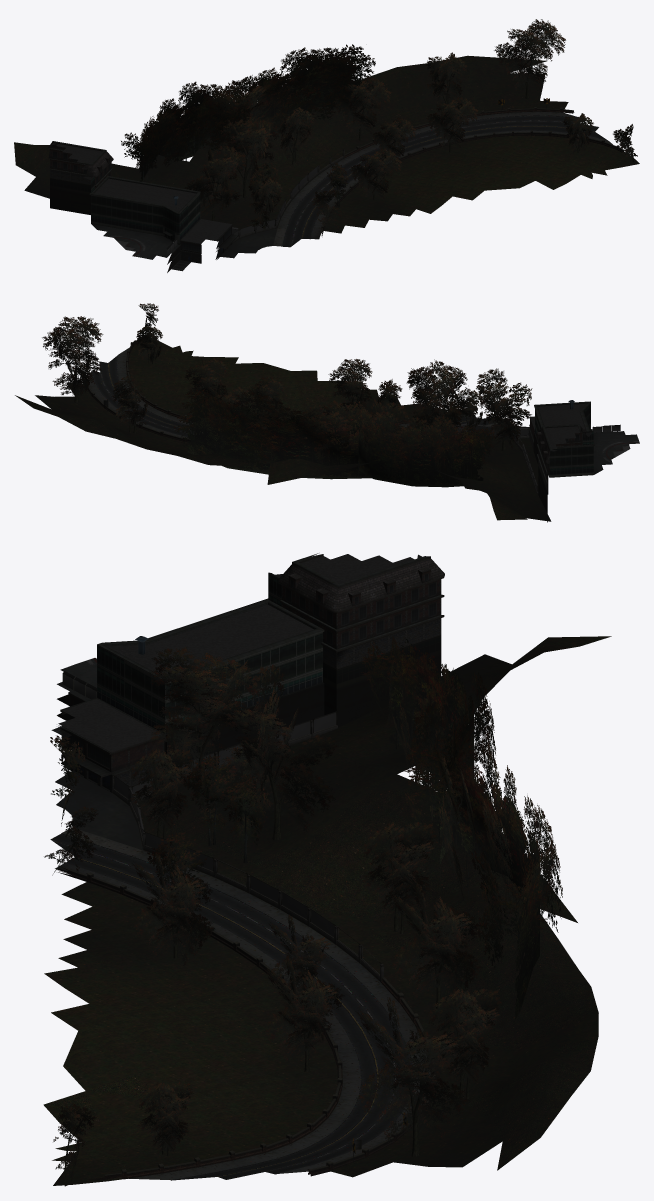
The model's file is cell_5_-12.gltf.
3 renders of one model, top to bottom at view 1: azimuth 30°, elevation 25°; view 2: azimuth 150°, elevation 25°; view 3: azimuth 270°, elevation 25°, orthographic. The views are drawn at different scales.
Visible parts, largest first — view 1: cell_5_-12; view 2: cell_5_-12; view 3: cell_5_-12.
Boxes of the visible parts, x1,y1,x2,y2 form: cell_5_-12: (14,19,639,272); cell_5_-12: (15,303,639,522); cell_5_-12: (43,553,611,1186).
Bounding box in the file's own units: 275 × 50.57 × 129.
39 materials, 39 textured.
